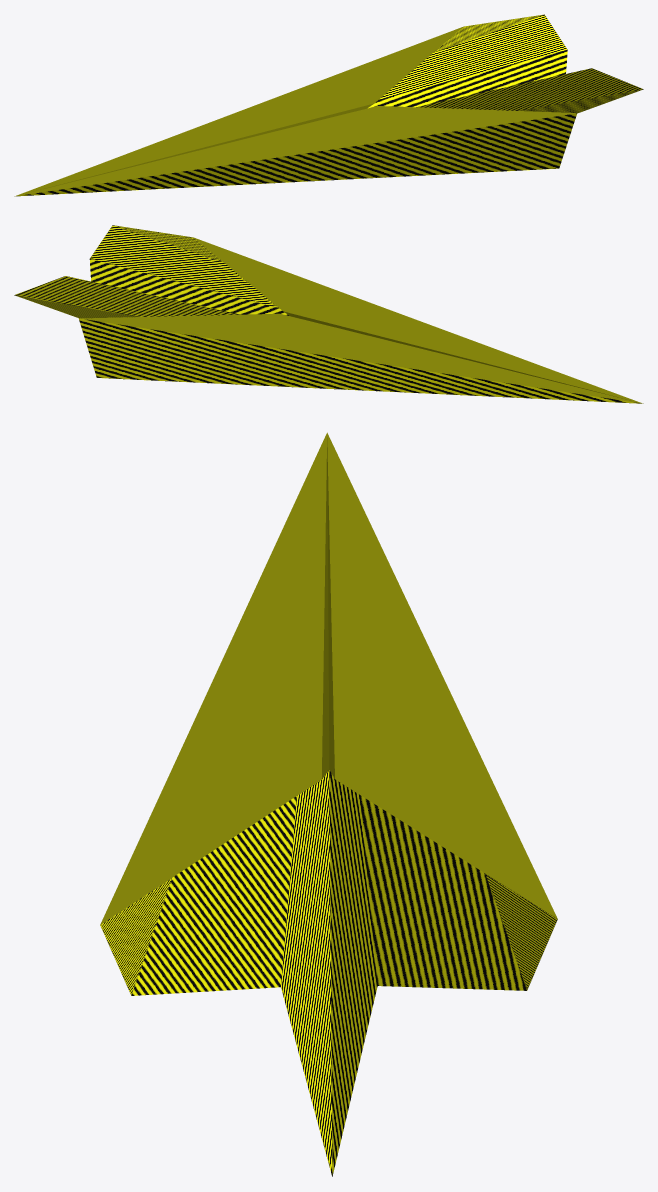
Rendered from paper_plane.glb.
3 views of the same model, one above another, from view 1: azimuth 30°, elevation 25°; view 2: azimuth 150°, elevation 25°; view 3: azimuth 270°, elevation 25° (orthographic). The views are drawn at different scales.
Visible parts, largest first — view 1: Plane; view 2: Plane; view 3: Plane.
Boxes of the visible parts, x1=… form: Plane: x1=14, y1=14, x2=643, y2=196; Plane: x1=14, y1=225, x2=643, y2=403; Plane: x1=100, y1=432, x2=557, y2=1176.
Bounding box in the file's own units: 0.8886 × 0.1613 × 0.3036.
1 material, 1 textured.
